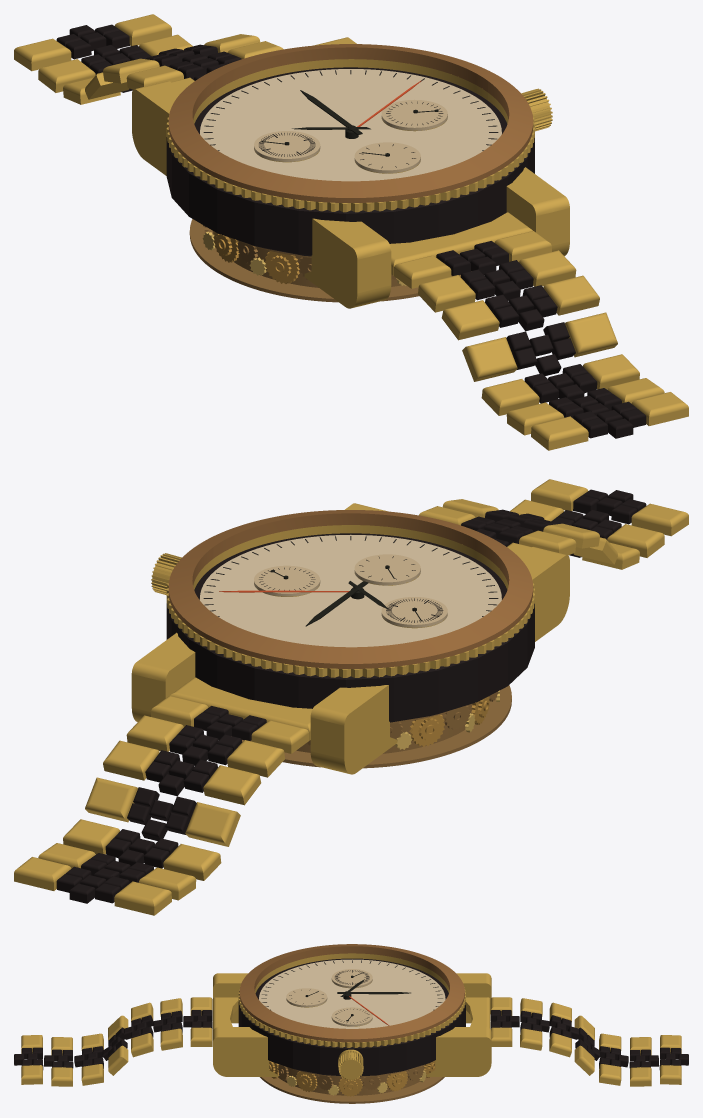
File: watch-table.glb
The picture shows the model from 3 angles, top to bottom: view 1: azimuth 30°, elevation 25°; view 2: azimuth 150°, elevation 25°; view 3: azimuth 270°, elevation 25°; orthographic projection. The views are drawn at different scales.
Parts seen in each view (by area): view 1: dial-075, bezel-076, hero_product-000, knurled_ring-077, lug-005, hero_product-004, lug-006, lug-007, movement-003, bracelet_outer-189, bracelet_outer-165, inner_dial-072 (+22 smaller); view 2: dial-075, bezel-076, hero_product-000, knurled_ring-077, lug-007, hero_product-004, lug-008, lug-005, movement-003, bracelet_outer-080, bracelet_outer-104, inner_dial-072 (+23 smaller); view 3: dial-075, bezel-076, hero_product-000, lug-008, lug-006, knurled_ring-077, movement-003, hero_product-004, lug-005, lug-007, bracelet_outer-189, movement-001 (+33 smaller).
Part boxes in pixels (x1,y1,x2,y2): dial-075: (200,69,501,181); bezel-076: (168,44,533,202); hero_product-000: (166,67,534,256); knurled_ring-077: (166,59,534,212); lug-005: (304,218,391,308); hero_product-004: (166,141,534,255); lug-006: (506,167,569,255); lug-007: (132,81,182,175); movement-003: (189,219,460,302); bracelet_outer-189: (389,212,532,275); bracelet_outer-165: (462,337,517,381); inner_dial-072: (354,142,420,173); dial-075: (199,534,501,647); bezel-076: (168,510,533,668); hero_product-000: (166,533,534,722); knurled_ring-077: (166,525,534,677); lug-007: (310,685,397,774); hero_product-004: (166,606,534,722); lug-008: (131,632,195,721); lug-005: (519,547,569,641); movement-003: (242,685,511,768); bracelet_outer-080: (170,677,312,740); bracelet_outer-104: (185,802,240,846); inner_dial-072: (354,554,420,585); dial-075: (259,959,445,1028); bezel-076: (239,944,464,1042); hero_product-000: (238,958,465,1076); lug-008: (426,1027,491,1076); lug-006: (213,1027,278,1076); knurled_ring-077: (238,953,465,1047); movement-003: (260,1069,444,1103); hero_product-004: (238,1005,465,1075); lug-005: (213,973,247,1023); lug-007: (456,973,491,1023); bracelet_outer-189: (212,997,238,1046); movement-001: (278,1064,426,1095).
Bounding box in the file's own units: 5.5 × 1.89 × 14.83.
